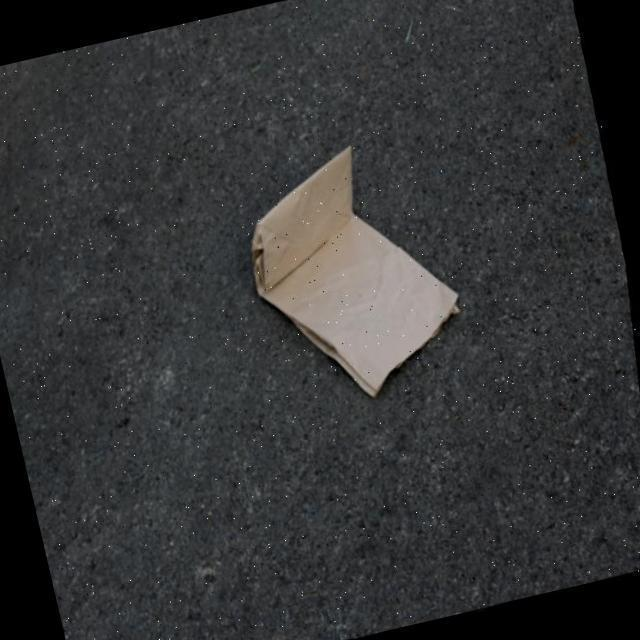Paper_Bag: (214, 114, 499, 431)
